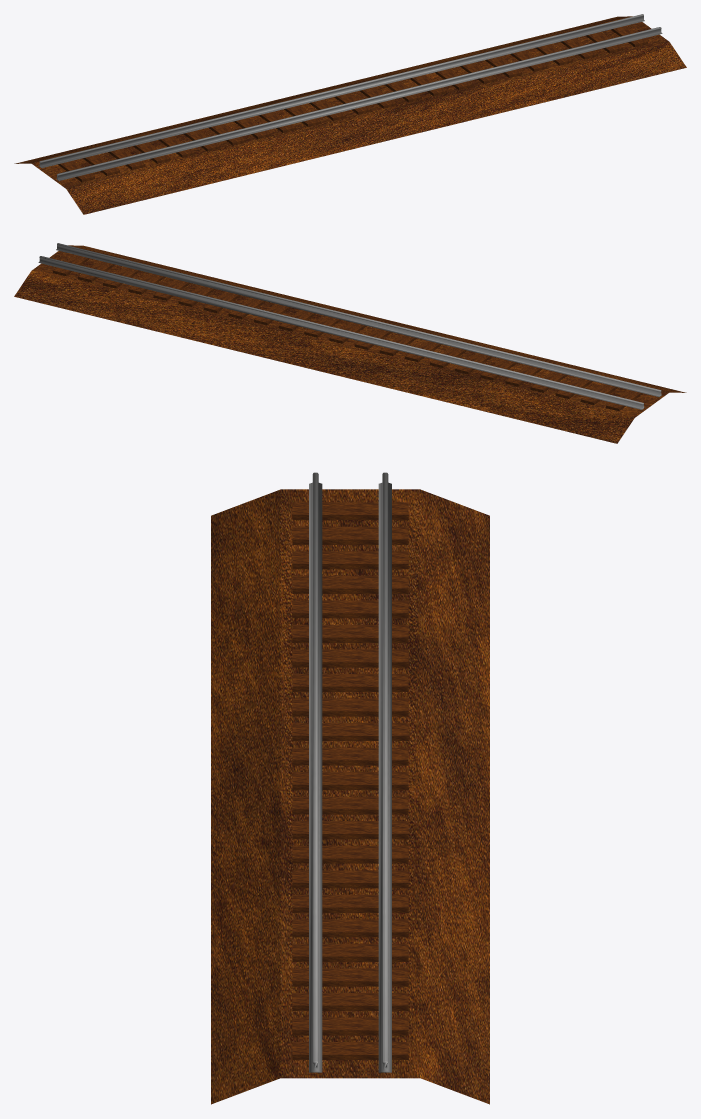
Rendered from railroad_track.obj.
3 renders of one model, top to bottom at view 1: azimuth 30°, elevation 25°; view 2: azimuth 150°, elevation 25°; view 3: azimuth 270°, elevation 25°, orthographic. The views are drawn at different scales.
Parts seen in each view (by area): view 1: Plane, Vias; view 2: Plane, Vias; view 3: Plane, Vias.
Part boxes in pixels (box(x1,y1,x2,y2)): Plane: box(14, 16, 686, 214); Vias: box(39, 14, 662, 180); Plane: box(14, 245, 686, 443); Vias: box(38, 243, 661, 409); Plane: box(211, 489, 489, 1104); Vias: box(309, 472, 391, 1072).
Size of the model in its own units: 24 by 0.8206 by 4.8.
2 materials, 2 textured.
